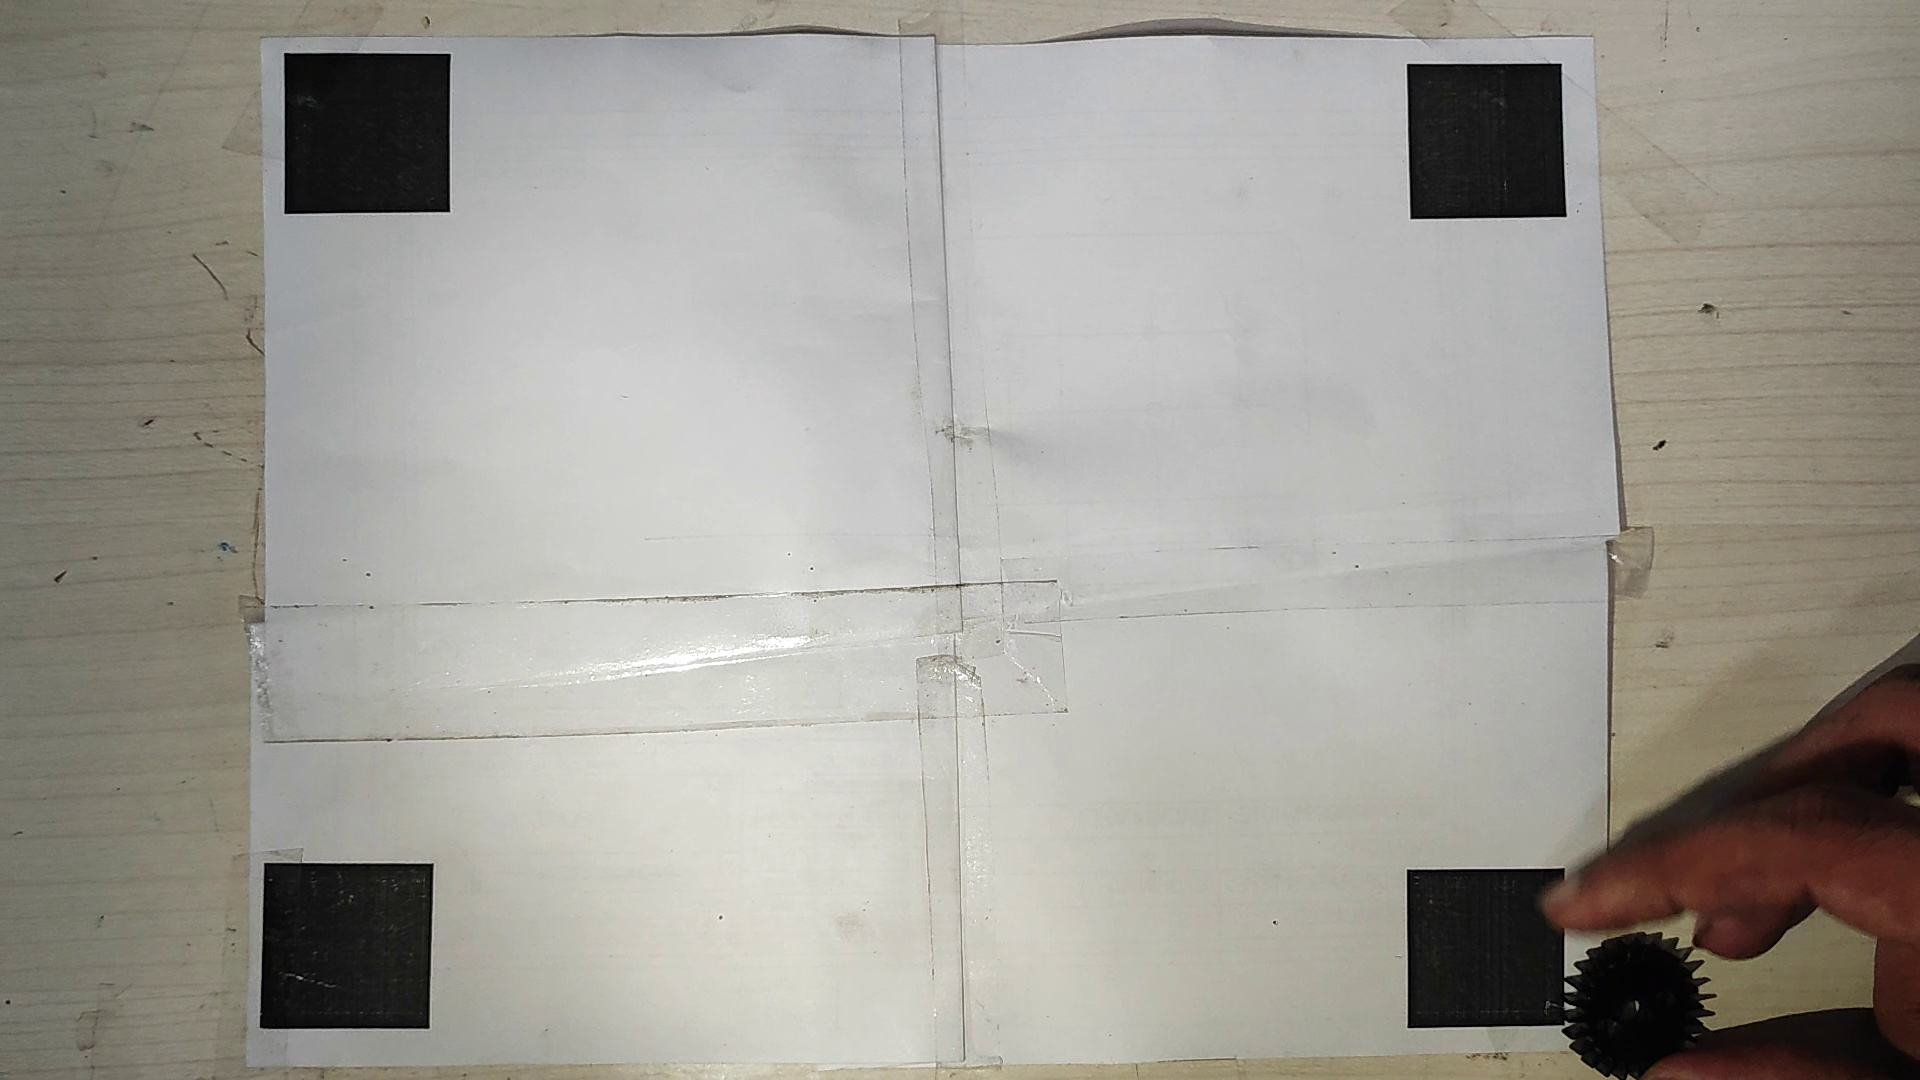Gear: (1555, 931, 1716, 1080)
